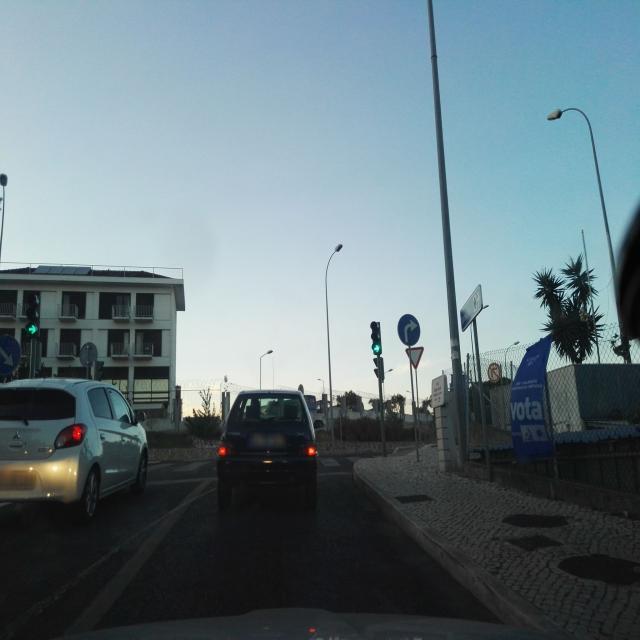car: (0, 377, 150, 522), (215, 388, 319, 511), (312, 418, 326, 430)
